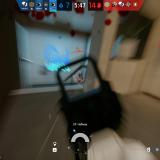Character: (76, 70, 84, 86)
Head: (77, 70, 81, 75)
